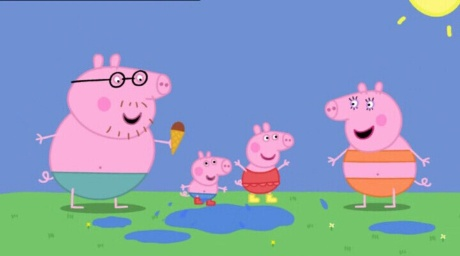Peppa: (234, 123, 297, 207)
